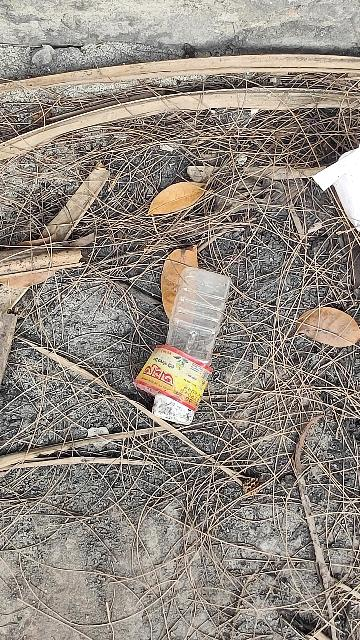bottle: (136, 259, 252, 435)
